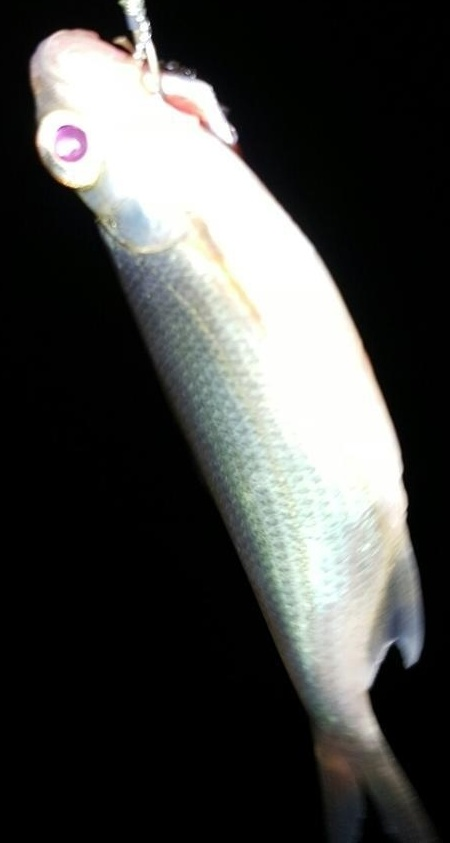Rutilus rutilus: (20, 20, 430, 843)
